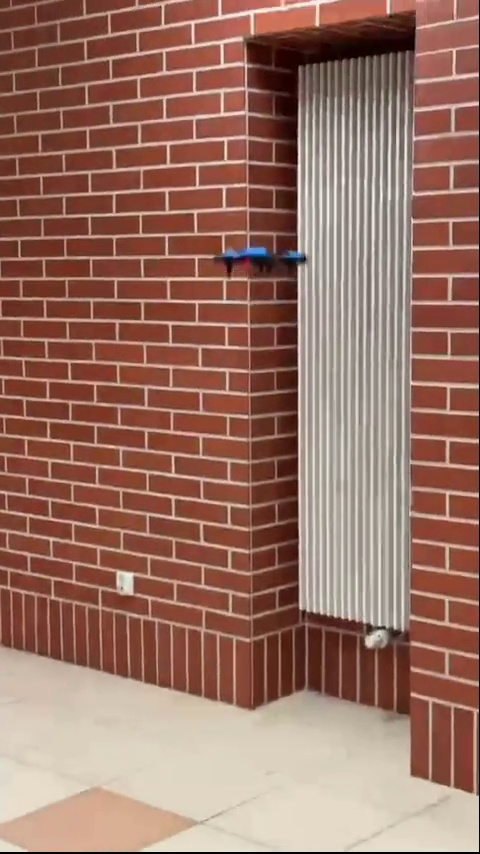drone: (209, 245, 312, 277)
